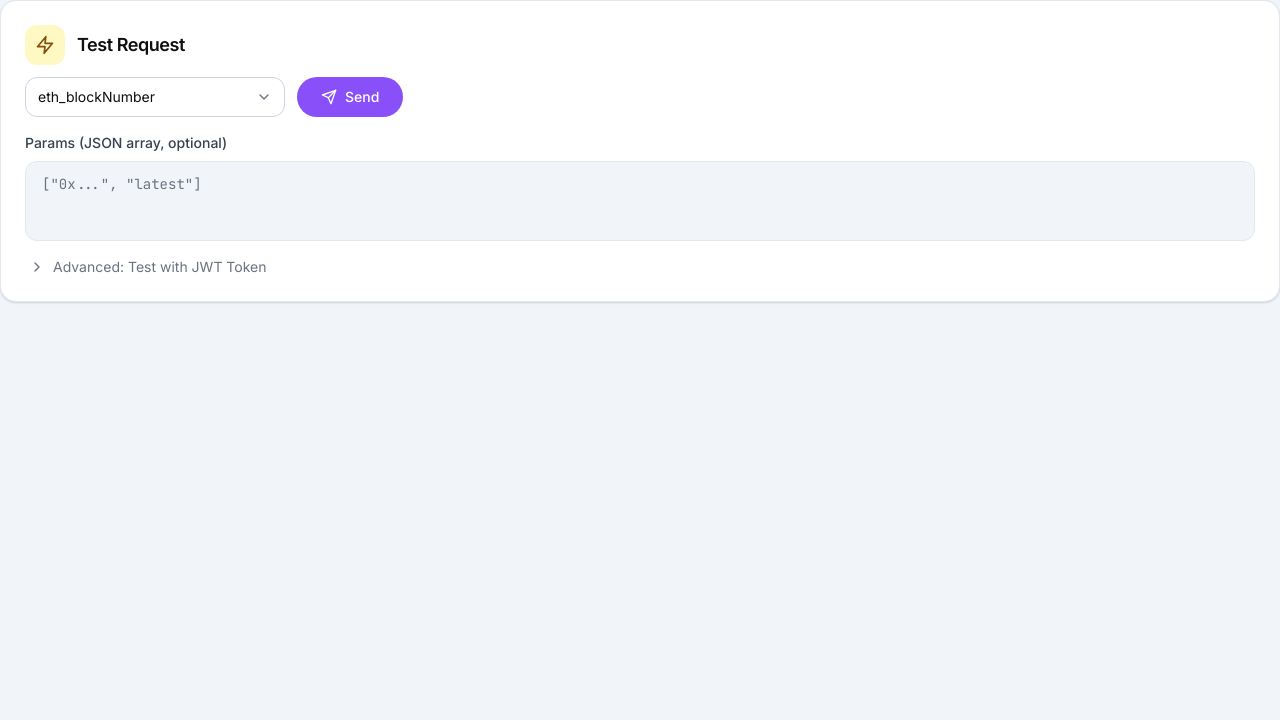
Test case: TestRequestPanel › Method selection › can select an RPC method (e.g. eth_getBalance)
Click the dropdown: (155, 97) [25,77,285,117]
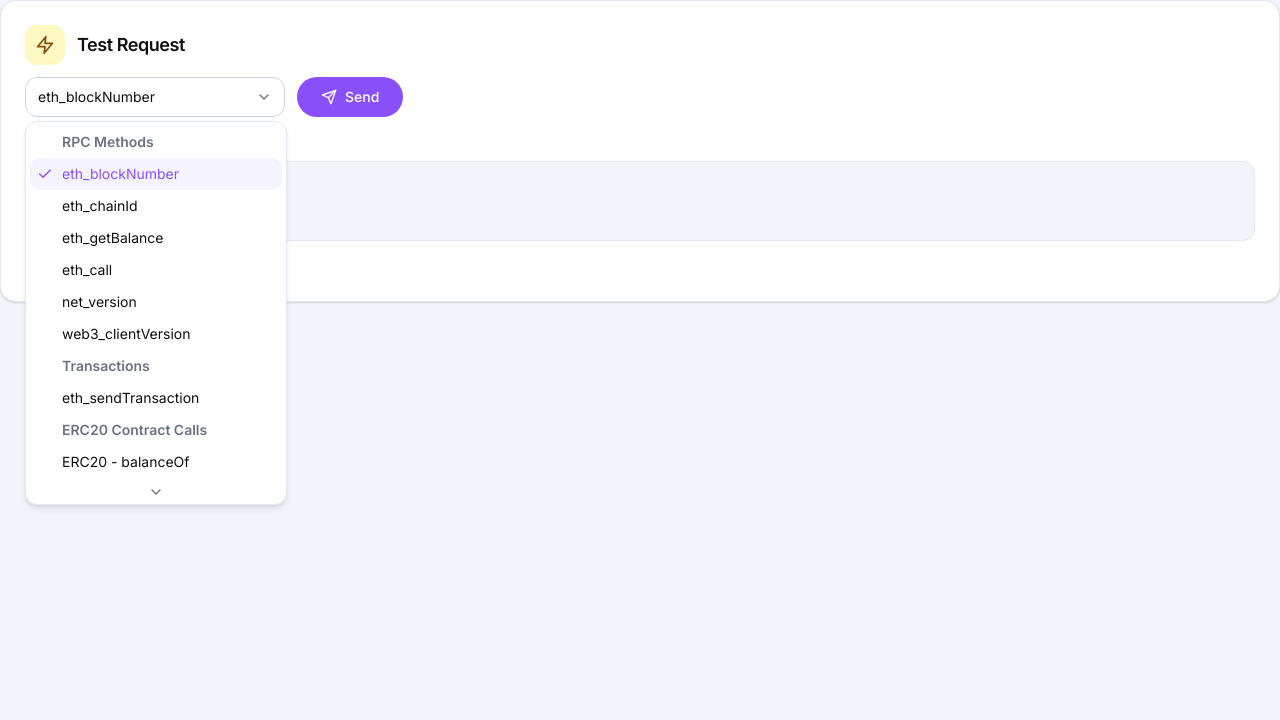
Click the option "eth_getBalance": (113, 238) [62,229,164,246]
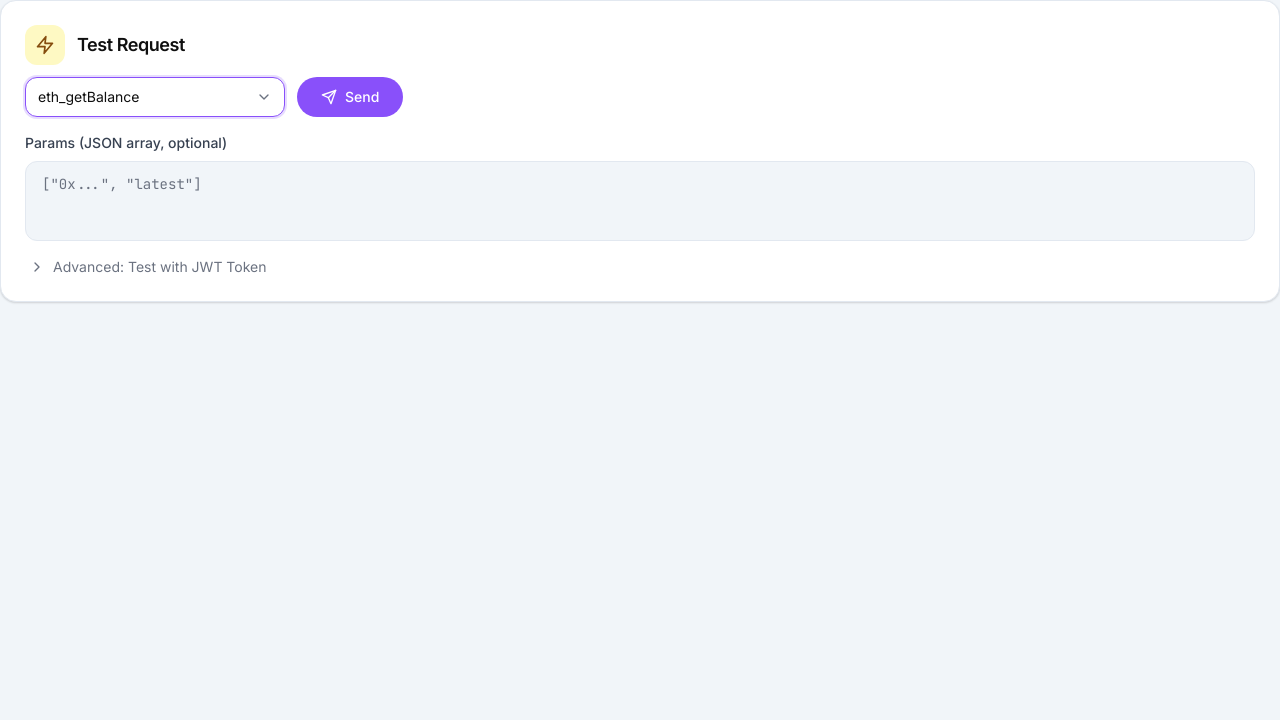
Result: the dropdown reads "eth_getBalance" at [25,77,285,117]
